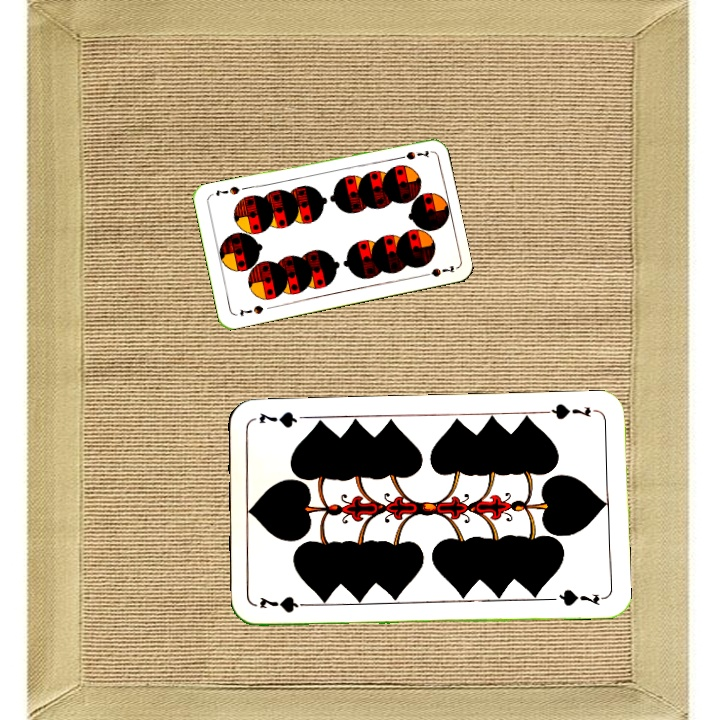G7: (256, 592, 315, 615), (541, 399, 593, 422)
S7: (392, 146, 431, 163), (236, 301, 266, 319)
